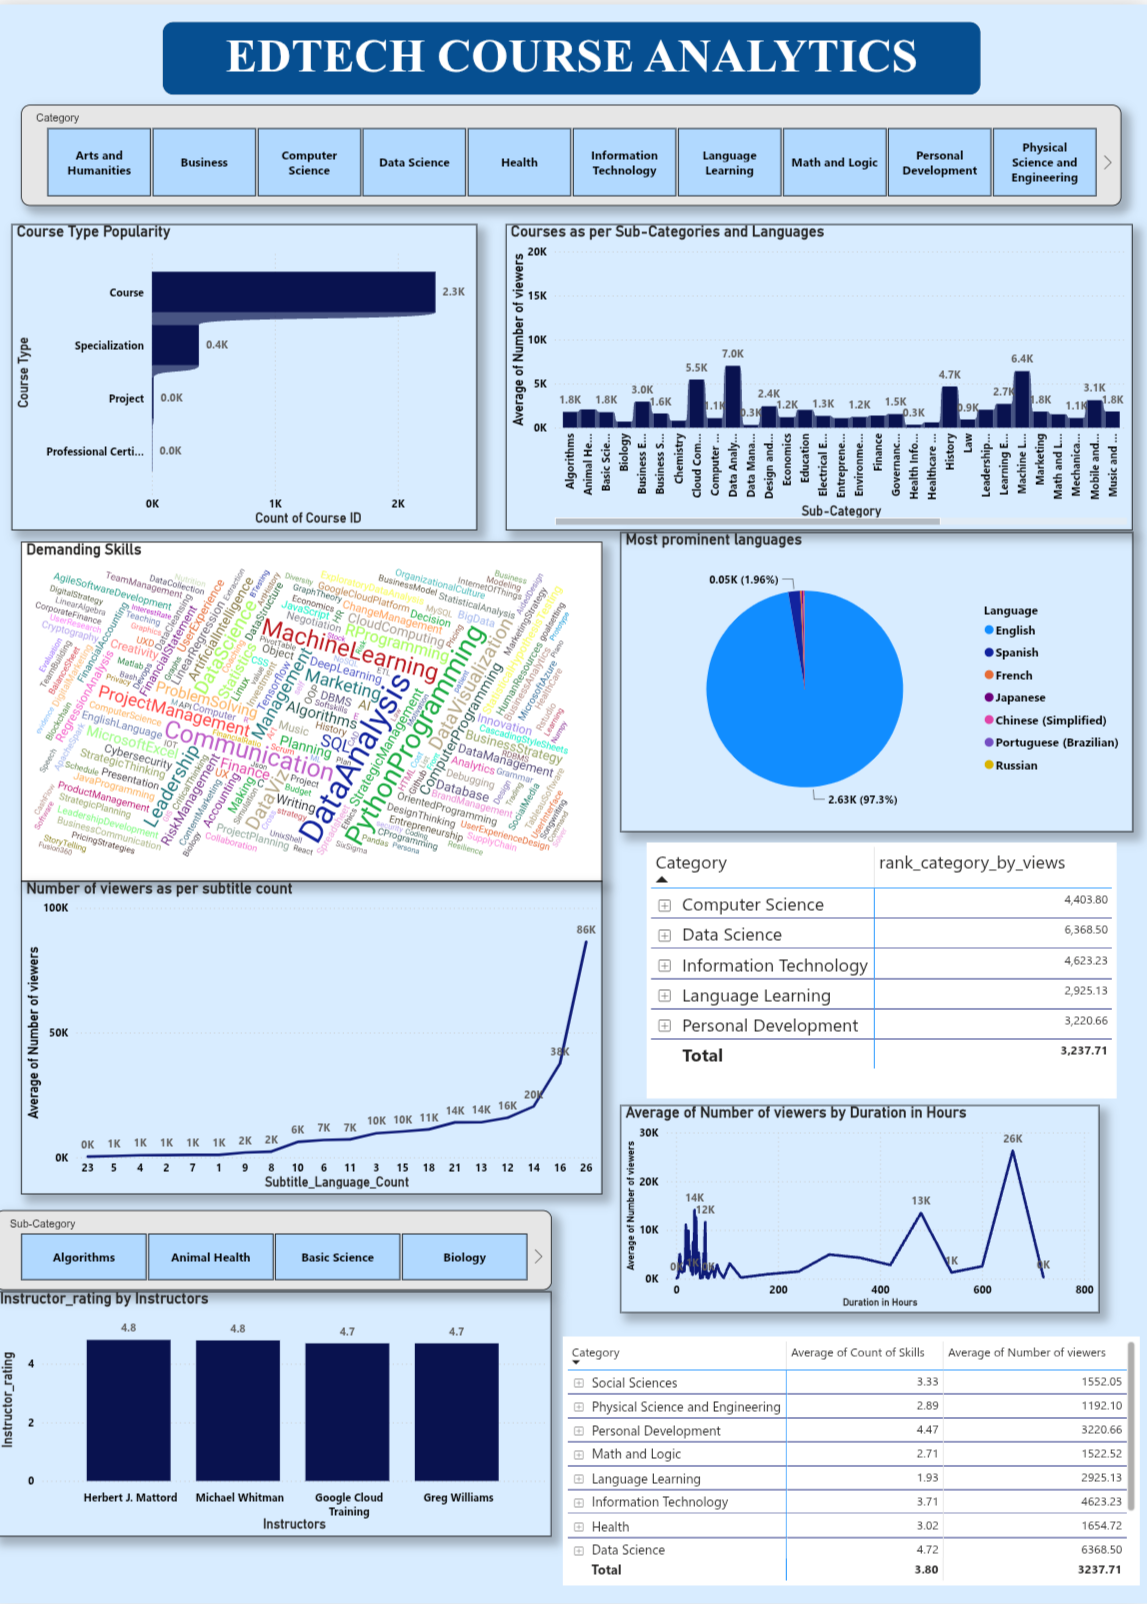

The dashboard page shown, as its layout file describes it:
{"tool":"powerbi","page":{"name":"Page 1","canvas":[1300,1800],"ordinal":0},"visuals":[{"type":"textbox","box":[187.5,17.5,923.8,83.8],"z":0},{"type":"slicer","fields":{"Values":["Online_Courses.Category"]},"box":[30,114,1240,114],"z":1000},{"type":"barChart","title":"Course Type Popularity","fields":{"Category":["Online_Courses.Course Type"],"Y":["CountNonNull(Online_Courses.Course ID)"]},"box":[18.3,248.3,525,345],"z":2000},{"type":"columnChart","title":"Courses as per Sub-Categories and Languages","fields":{"Category":["Online_Courses.Sub-Category","Online_Courses.Language"],"Y":["Avg(Online_Courses.Number of viewers)"]},"box":[576.7,248.3,706.7,345],"z":3000},{"type":"WordCloud1447959067750","title":"Demanding Skills","fields":{"Category":["Online_Courses.Skills"]},"box":[30,605,655,383.3],"z":4000},{"type":"pieChart","title":"Most prominent languages","fields":{"Category":["Online_Courses.Language"],"Y":["CountNonNull(Online_Courses.Course ID)"]},"box":[704,594,578,338],"z":5000},{"type":"pivotTable","fields":{"Rows":["Online_Courses.Category","Online_Courses.Language"],"Values":["Online_Courses.rank_category_by_views"]},"box":[733.8,943.8,530,288.8],"z":6000},{"type":"lineChart","title":"Number of viewers as per subtitle count","fields":{"Y":["Avg(Online_Courses.Number of viewers)"],"Category":["Online_Courses.Subtitle_Language_Count"]},"box":[30,988.3,655,353.3],"z":7000},{"type":"columnChart","fields":{"Category":["Teachers.Instructors"],"Y":["Teachers.Instructor_rating"]},"box":[0,1450,627.5,276.2],"z":8000},{"type":"slicer","fields":{"Values":["Teachers.Sub-Category"]},"box":[0,1360,628,90],"z":9000},{"type":"lineChart","fields":{"Category":["Online_Courses.Duration in Hours"],"Y":["Avg(Online_Courses.Number of viewers)"]},"box":[704,1242,540,234],"z":10000},{"type":"pivotTable","fields":{"Rows":["Online_Courses.Category","Online_Courses.Sub-Category"],"Values":["Avg(Online_Courses.Count of Skills)","Avg(Online_Courses.Number of viewers)"]},"box":[641.2,1501.2,650,280],"z":11000}]}

Visuals, with their boxes in screenshot pixels (x1, y1, x2, y2), scaled from the page's 1300x1800 canvas onto the 1147x1604 screenshot:
textbox: box(165, 16, 981, 90)
slicer - Online_Courses.Category: box(26, 102, 1121, 203)
"Course Type Popularity" barChart: box(16, 221, 479, 529)
"Courses as per Sub-Categories and Languages" columnChart: box(509, 221, 1132, 529)
"Demanding Skills" WordCloud1447959067750: box(26, 539, 604, 881)
"Most prominent languages" pieChart: box(621, 529, 1131, 831)
pivotTable - Online_Courses.Category x Online_Courses.Language: box(647, 841, 1115, 1098)
"Number of viewers as per subtitle count" lineChart: box(26, 881, 604, 1196)
columnChart - Teachers.Instructors x Teachers.Instructor_rating: box(0, 1292, 554, 1538)
slicer - Teachers.Sub-Category: box(0, 1212, 554, 1292)
lineChart - Online_Courses.Duration in Hours x Avg(Online_Courses.Number of viewers): box(621, 1107, 1098, 1315)
pivotTable - Online_Courses.Category x Online_Courses.Sub-Category: box(566, 1338, 1139, 1587)
